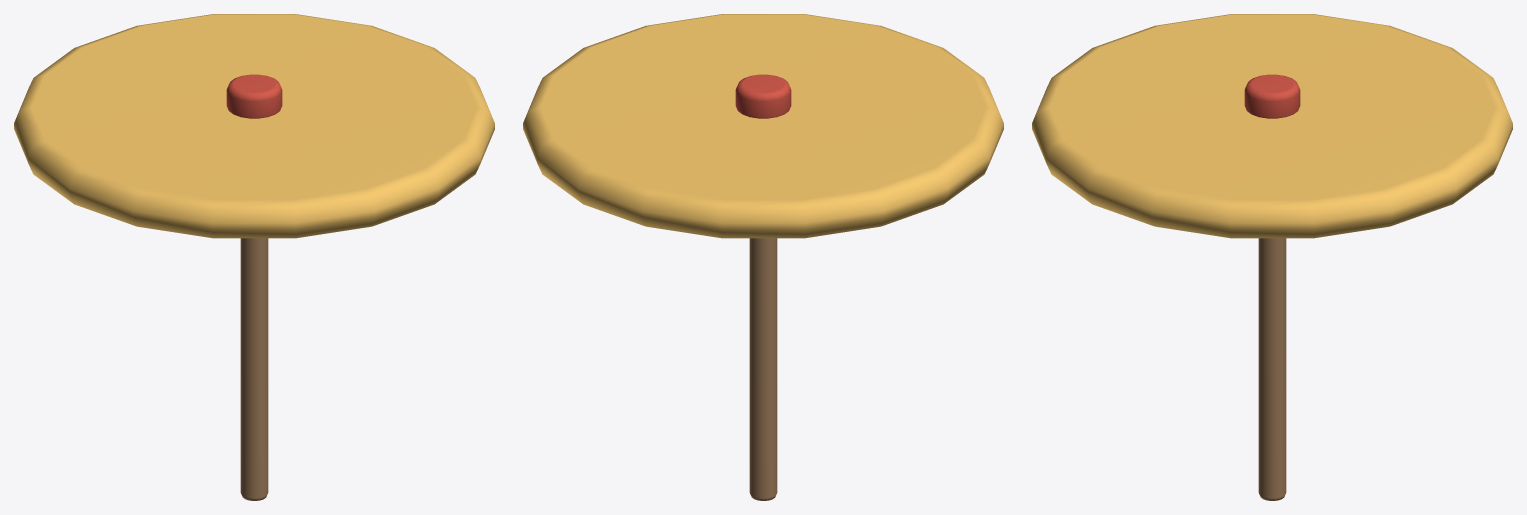
3 renders of one model, left to right at view 1: azimuth 30°, elevation 25°; view 2: azimuth 150°, elevation 25°; view 3: azimuth 270°, elevation 25°, orthographic.
Parts seen in each view (by area): view 1: LOD1_BEACH_UMBRELLA_Canopy, LOD1_BEACH_UMBRELLA_Pole, LOD1_BEACH_UMBRELLA_Cap; view 2: LOD1_BEACH_UMBRELLA_Canopy, LOD1_BEACH_UMBRELLA_Pole, LOD1_BEACH_UMBRELLA_Cap; view 3: LOD1_BEACH_UMBRELLA_Canopy, LOD1_BEACH_UMBRELLA_Pole, LOD1_BEACH_UMBRELLA_Cap.
Boxes of the visible parts, box(x1,y1,x2,y2) form: LOD1_BEACH_UMBRELLA_Canopy: box(14, 14, 494, 238); LOD1_BEACH_UMBRELLA_Pole: box(240, 238, 268, 500); LOD1_BEACH_UMBRELLA_Cap: box(226, 74, 282, 118); LOD1_BEACH_UMBRELLA_Canopy: box(523, 14, 1003, 238); LOD1_BEACH_UMBRELLA_Pole: box(749, 238, 777, 500); LOD1_BEACH_UMBRELLA_Cap: box(735, 74, 791, 118); LOD1_BEACH_UMBRELLA_Canopy: box(1032, 14, 1512, 238); LOD1_BEACH_UMBRELLA_Pole: box(1258, 238, 1286, 500); LOD1_BEACH_UMBRELLA_Cap: box(1244, 74, 1300, 118).
Size of what is drawn, in the model's own units: 2.72 by 2.62 by 2.76.
